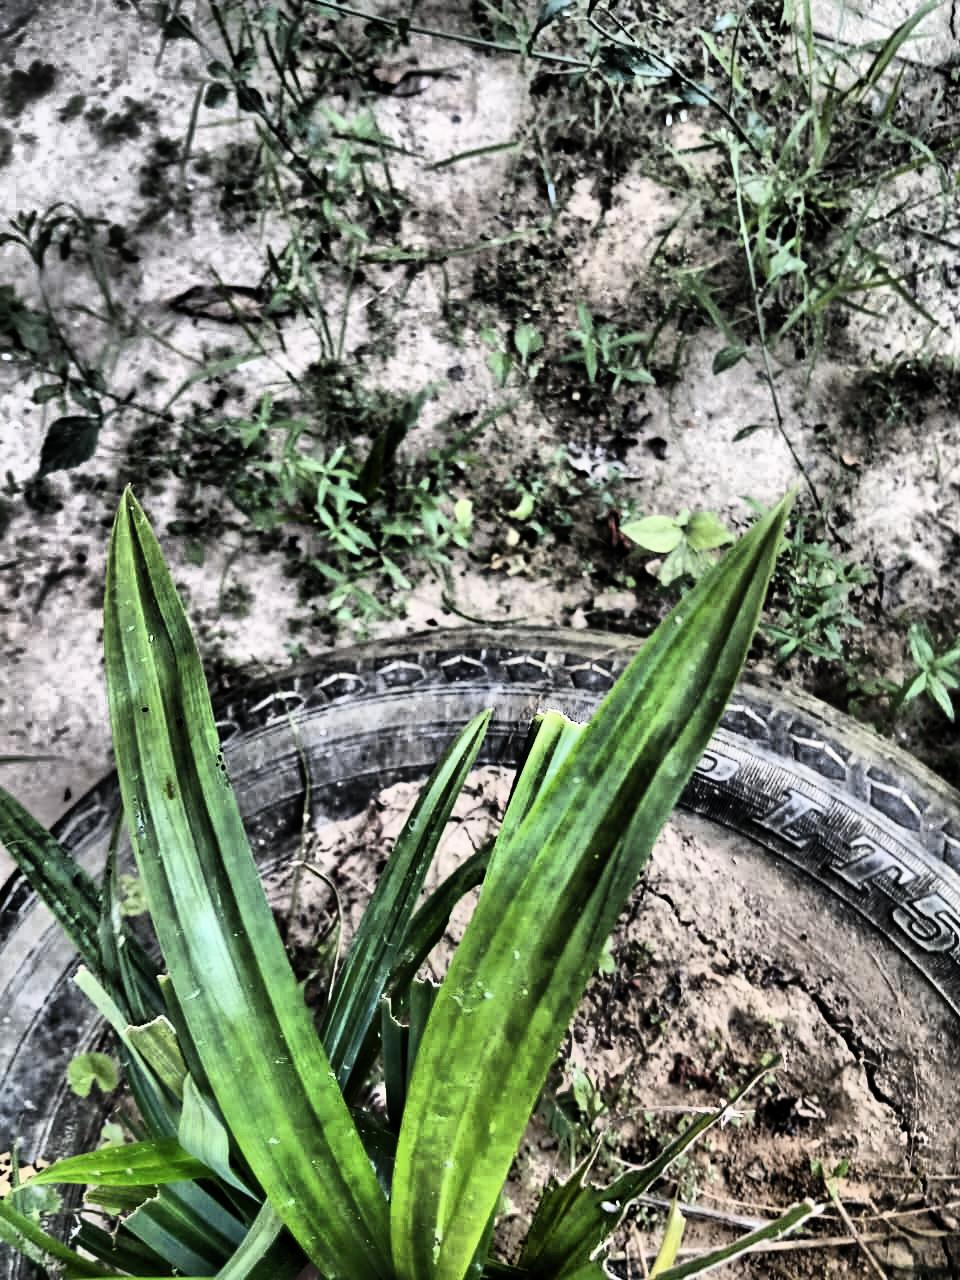daun pandan: (0, 489, 787, 1279)
